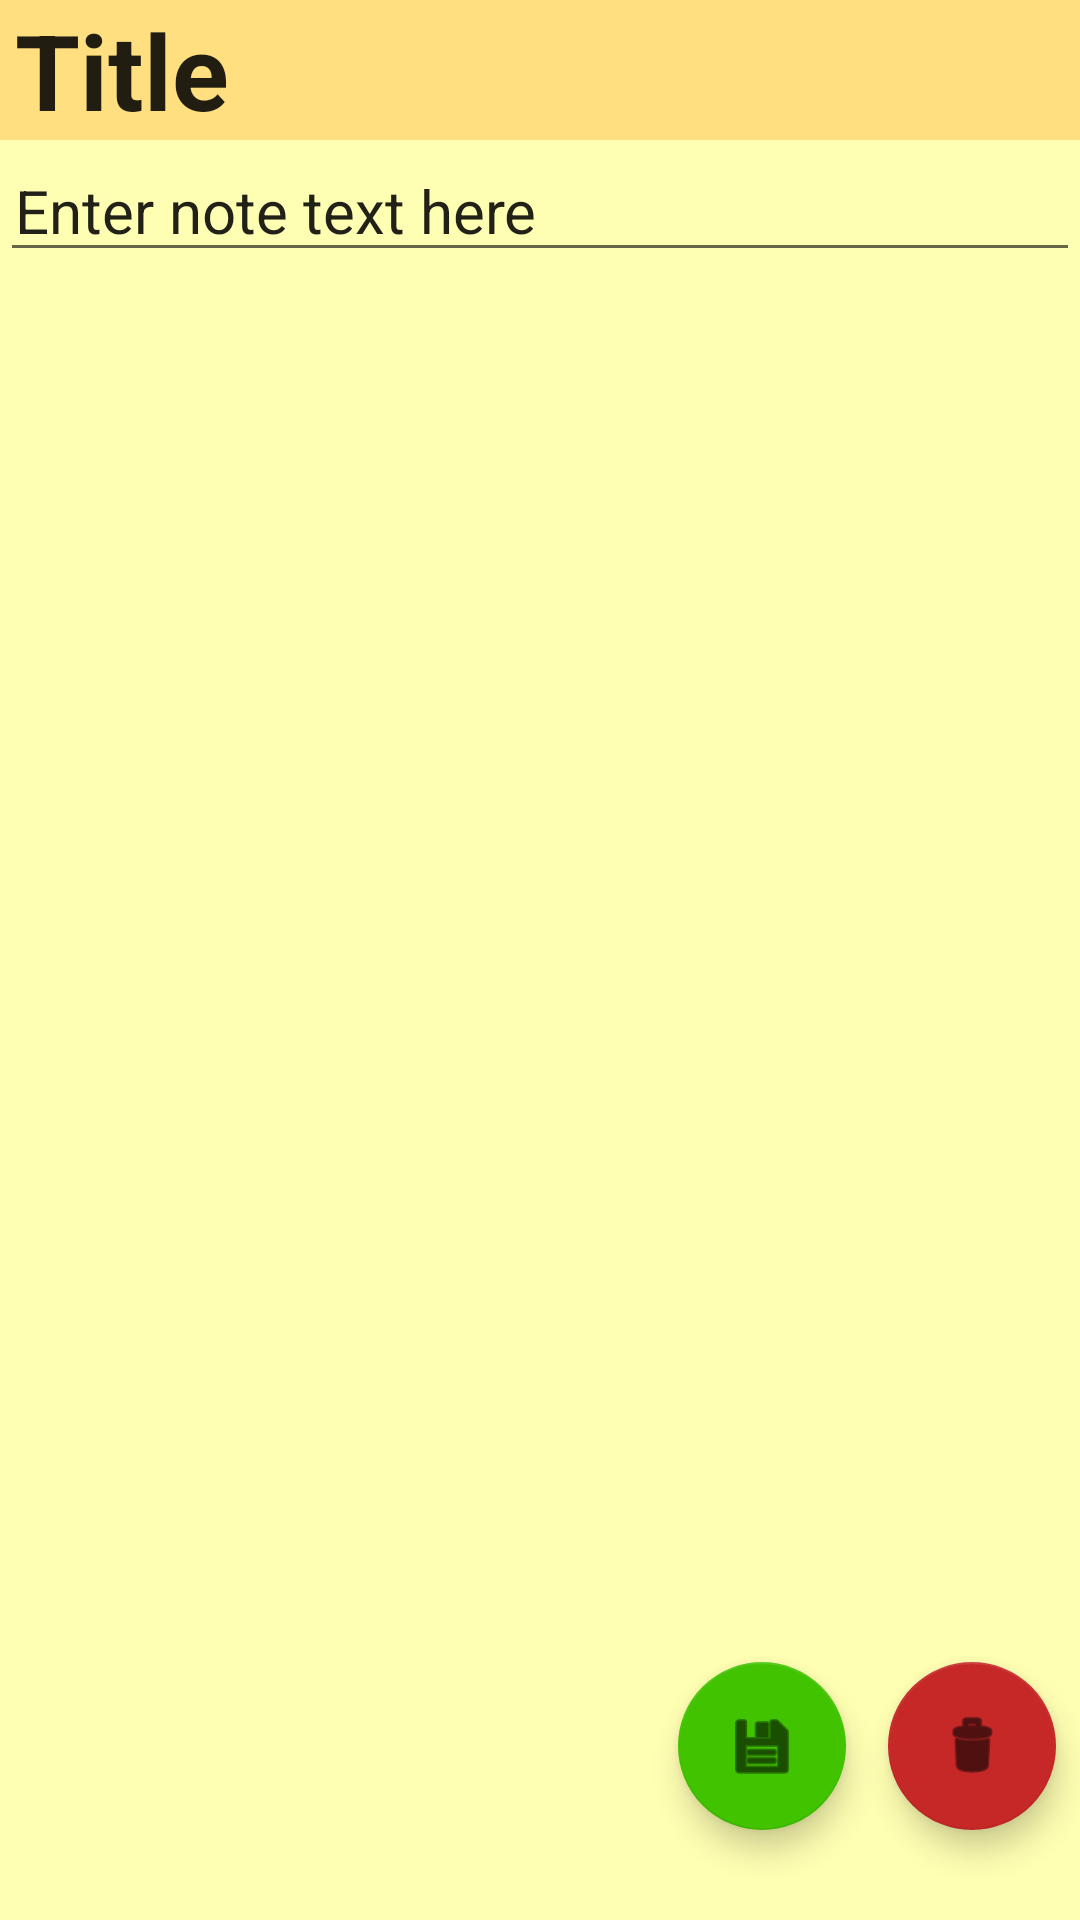

Screen size 1080*1920. Icon name, then its box in pixels as (x1, y1, x2, y2):
delete: (888, 1662, 1056, 1830)
save: (678, 1662, 846, 1830)
